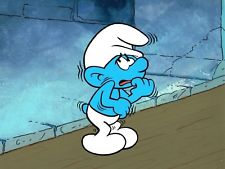smurf: (77, 21, 157, 155)
